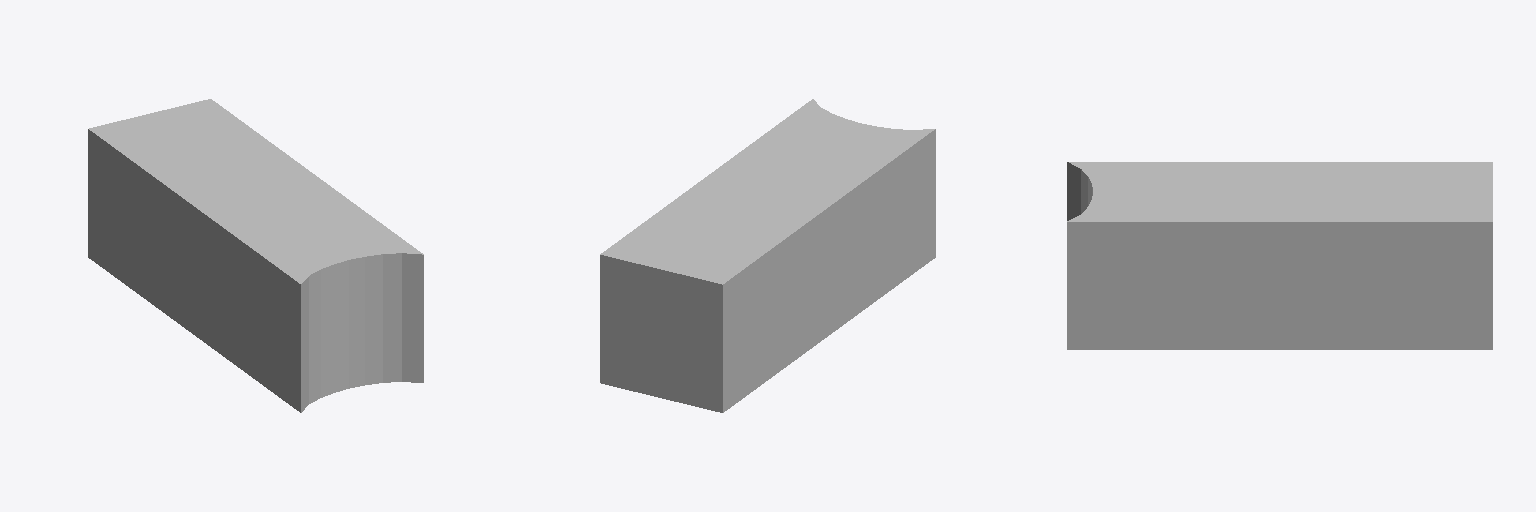
File: Launcher.obj
3 views of the same model, side by side, from view 1: azimuth 30°, elevation 25°; view 2: azimuth 150°, elevation 25°; view 3: azimuth 270°, elevation 25° (orthographic).
Visible parts, largest first — view 1: Cube; view 2: Cube; view 3: Cube.
Boxes of the visible parts, <box> form: Cube: <box>88,99,423,412</box>; Cube: <box>600,99,935,412</box>; Cube: <box>1067,162,1492,349</box>.
Size of the model in its own units: 1 by 1 by 3.